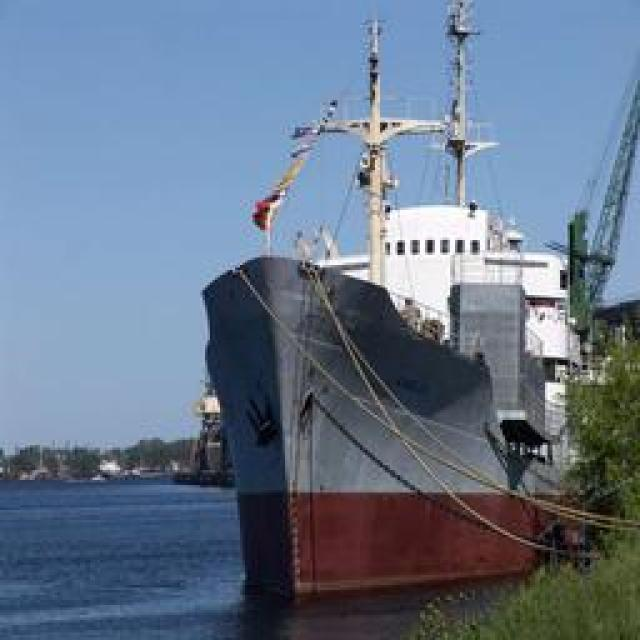CIV_Ship: (205, 84, 578, 606)
